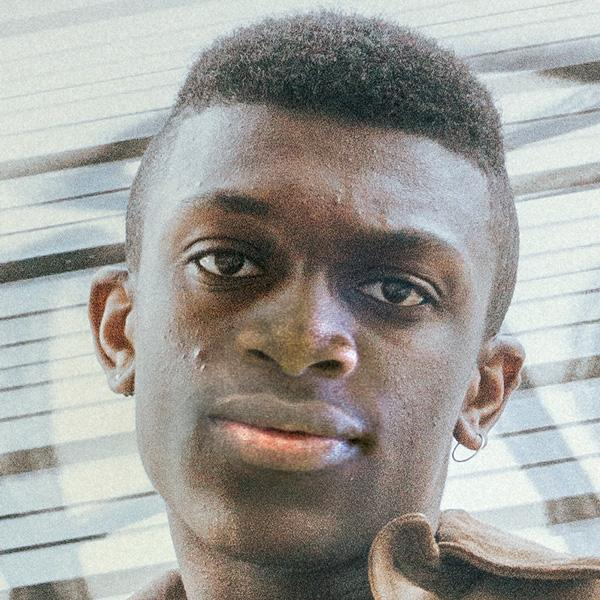Eyes: (344, 249, 439, 326), (179, 224, 272, 296)
